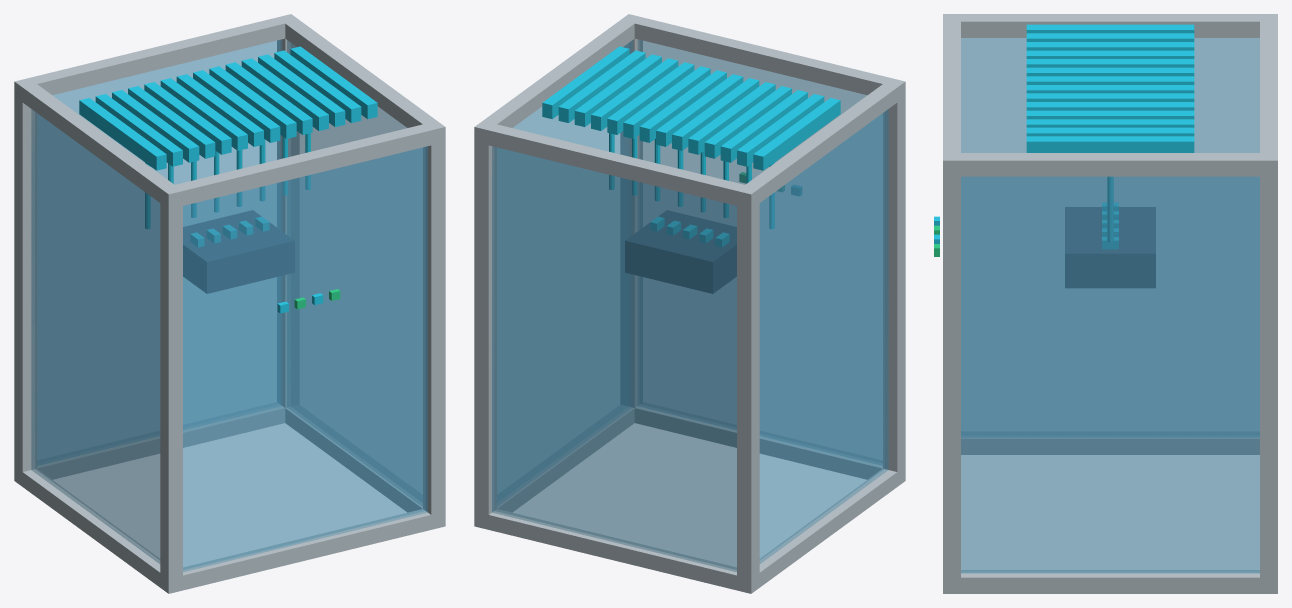
Rendered from 36_L79_DrySurfaceCleaningModule.fbx.
The picture shows the model from 3 angles, left to right: view 1: azimuth 30°, elevation 25°; view 2: azimuth 150°, elevation 25°; view 3: azimuth 270°, elevation 25°; orthographic projection. The views are drawn at different scales.
Parts seen in each view (by area): view 1: DrySurfaceCleaningModule, DrySurfaceCleaningModule_Part_0038; view 2: DrySurfaceCleaningModule, DrySurfaceCleaningModule_Part_0038; view 3: DrySurfaceCleaningModule, DrySurfaceCleaningModule_Part_0038.
Part boxes in pixels (x1,y1,x2,y2): DrySurfaceCleaningModule: [14, 14, 445, 593]; DrySurfaceCleaningModule_Part_0038: [183, 210, 294, 293]; DrySurfaceCleaningModule: [474, 14, 905, 593]; DrySurfaceCleaningModule_Part_0038: [625, 210, 736, 293]; DrySurfaceCleaningModule: [934, 14, 1277, 593]; DrySurfaceCleaningModule_Part_0038: [1065, 207, 1155, 287].
Bounding box in the file's own units: 145 × 202 × 144.
